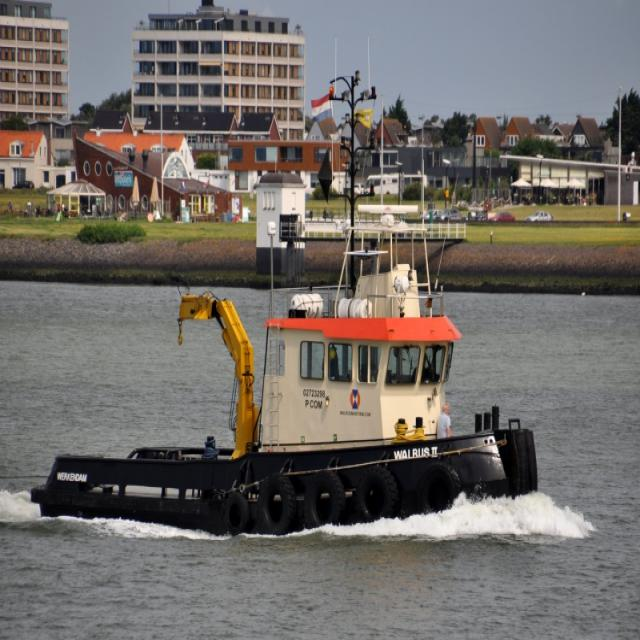tugboat: (29, 201, 543, 552)
